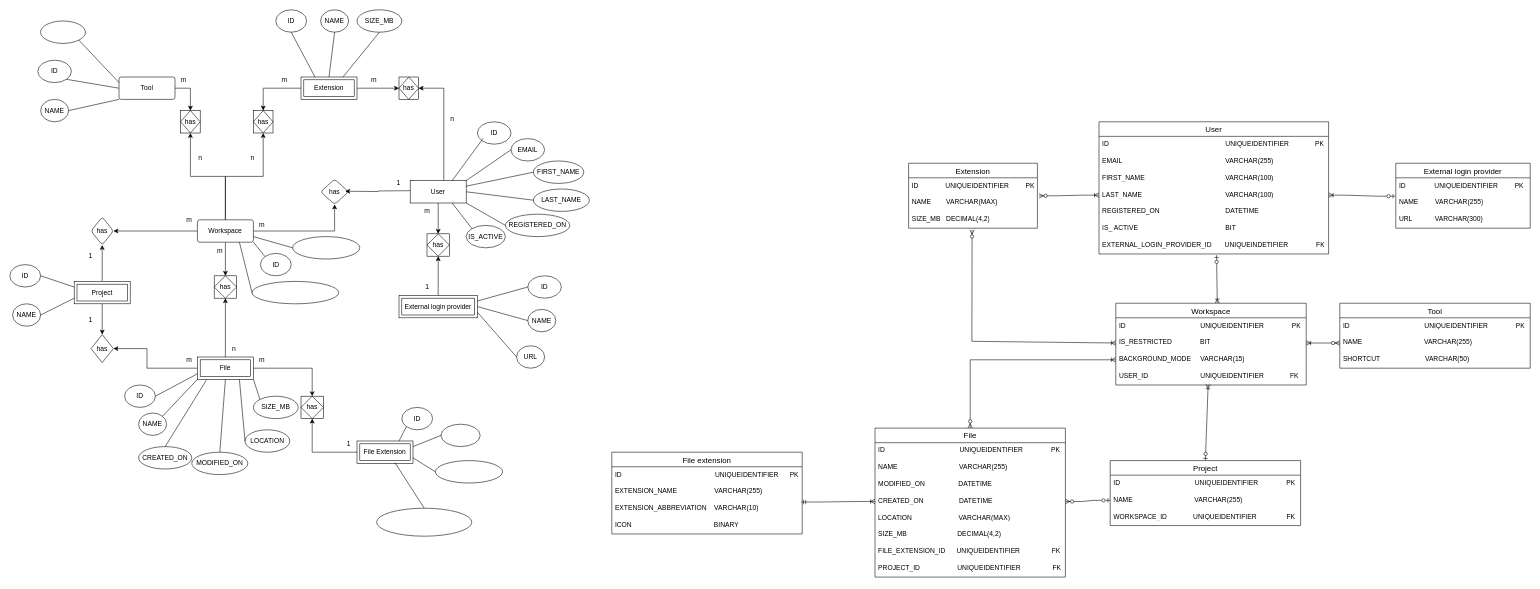
Image size: 1540x589. Some labels were removed from this diagram. Each missing label, with the box of its shape:
BACKGROUND_MODE: (251, 281, 339, 304)
EXTENSION_ABBREVIATION: (376, 508, 472, 536)
EXTENSION_NAME: (435, 460, 503, 483)
ICON: (440, 424, 480, 447)
IS_RESTRICTED: (292, 236, 360, 259)
SHORTCUT: (40, 20, 85, 43)
